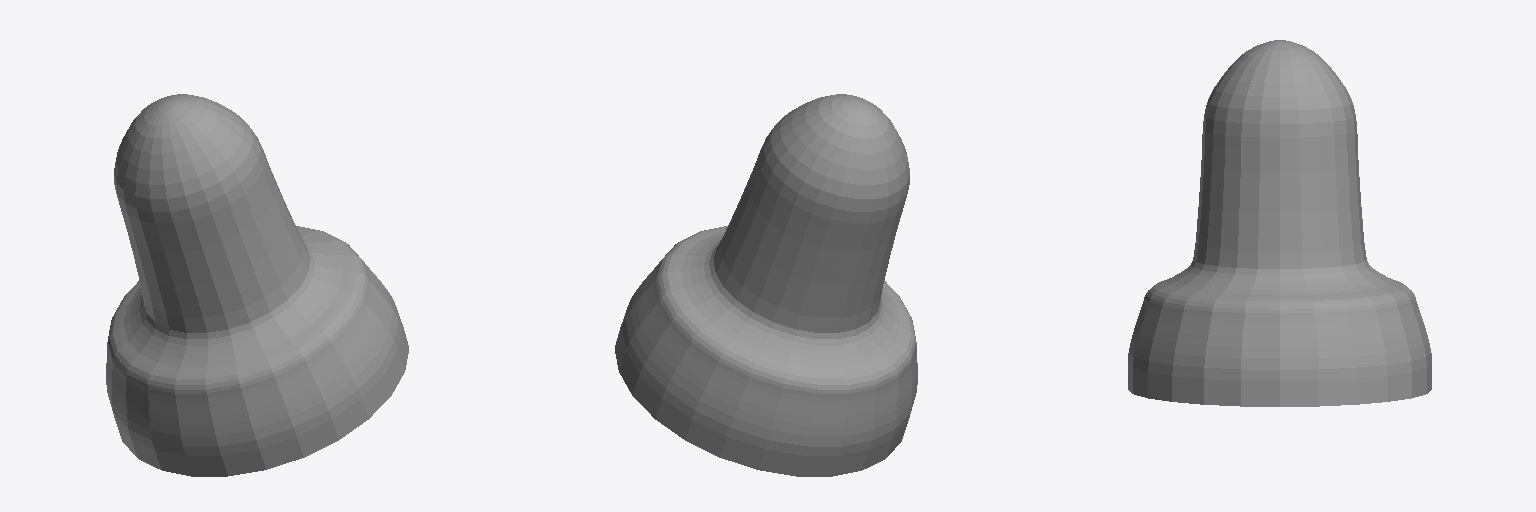
File: lamp_shade.obj
3 renders of one model, left to right at view 1: azimuth 30°, elevation 25°; view 2: azimuth 150°, elevation 25°; view 3: azimuth 270°, elevation 25°, orthographic.
Parts seen in each view (by area): view 1: Circle.007_Circle.010; view 2: Circle.007_Circle.010; view 3: Circle.007_Circle.010.
Part boxes in pixels (bbox=[...]): Circle.007_Circle.010: bbox=[106, 94, 408, 476]; Circle.007_Circle.010: bbox=[615, 94, 917, 476]; Circle.007_Circle.010: bbox=[1128, 40, 1431, 406].
Size of the model in its own units: 0.1392 by 0.1752 by 0.1389.